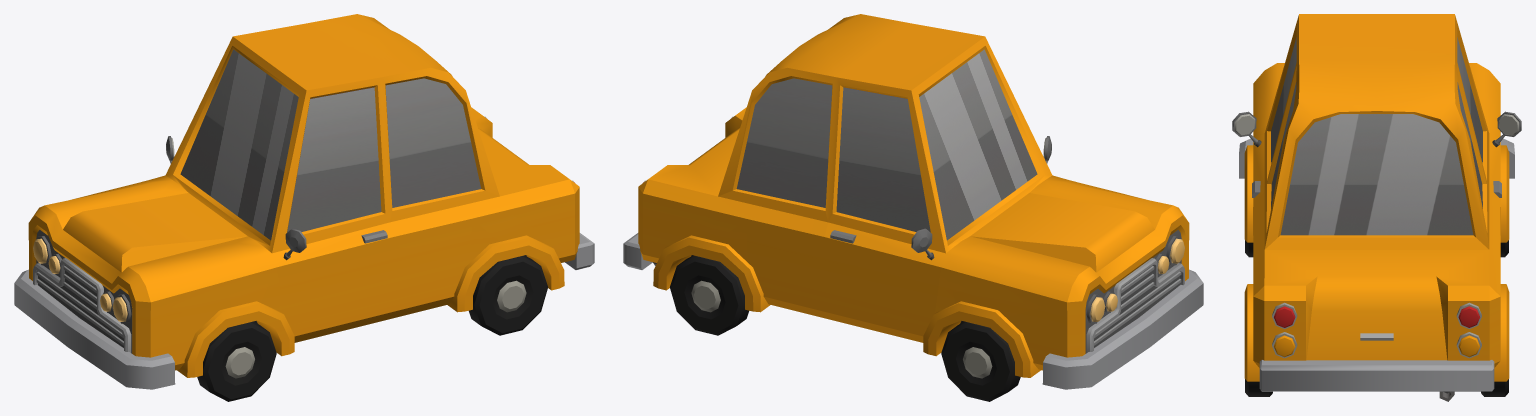
File: Car_8_D.gltf
3 renders of one model, left to right at view 1: azimuth 30°, elevation 25°; view 2: azimuth 150°, elevation 25°; view 3: azimuth 270°, elevation 25°, orthographic. The views are drawn at different scales.
Visible parts, largest first — view 1: Car_8_D, RL, FL; view 2: Car_8_D, RR, FR; view 3: Car_8_D, RL, RR.
Part boxes in pixels (box(x1,y1,x2,y2)): Car_8_D: box(14, 14, 594, 389); RL: box(469, 255, 547, 335); FL: box(197, 321, 276, 401); Car_8_D: box(623, 14, 1203, 389); RR: box(670, 255, 748, 335); FR: box(941, 321, 1020, 401); Car_8_D: box(1232, 14, 1521, 401); RL: box(1245, 379, 1272, 396); RR: box(1481, 379, 1508, 396).
Bounding box in the file's own units: 3.38 × 1.84 × 1.7.
Materials: 3 (3 with a texture image).
